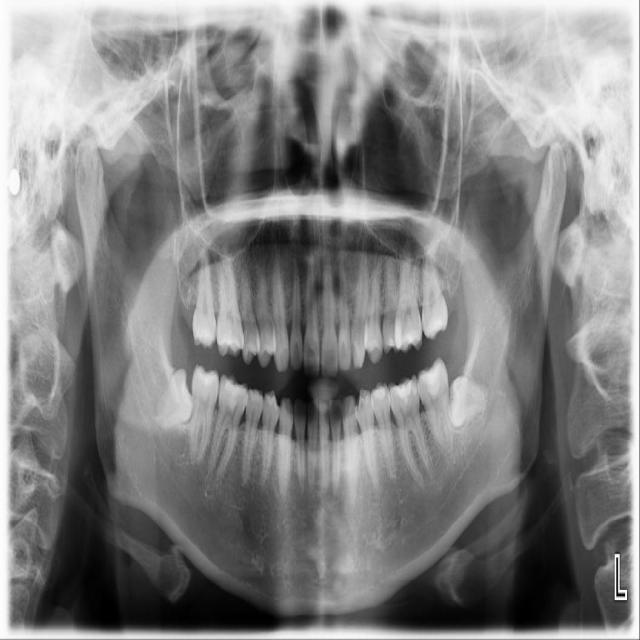Filling: (417, 364, 444, 399), (390, 379, 418, 403), (426, 316, 442, 334), (370, 386, 389, 401)
impacted tooth: (156, 365, 193, 430), (448, 377, 491, 427)
